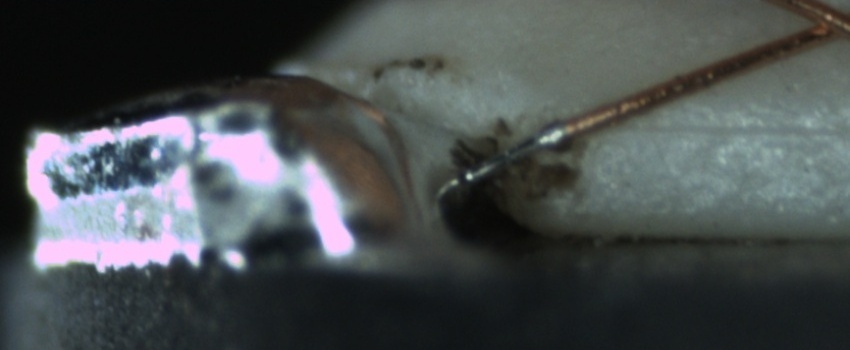CL: (778, 2, 849, 47)
DL: (612, 94, 844, 163)
TS: (453, 123, 572, 191)
TTCW: (445, 103, 607, 197)
